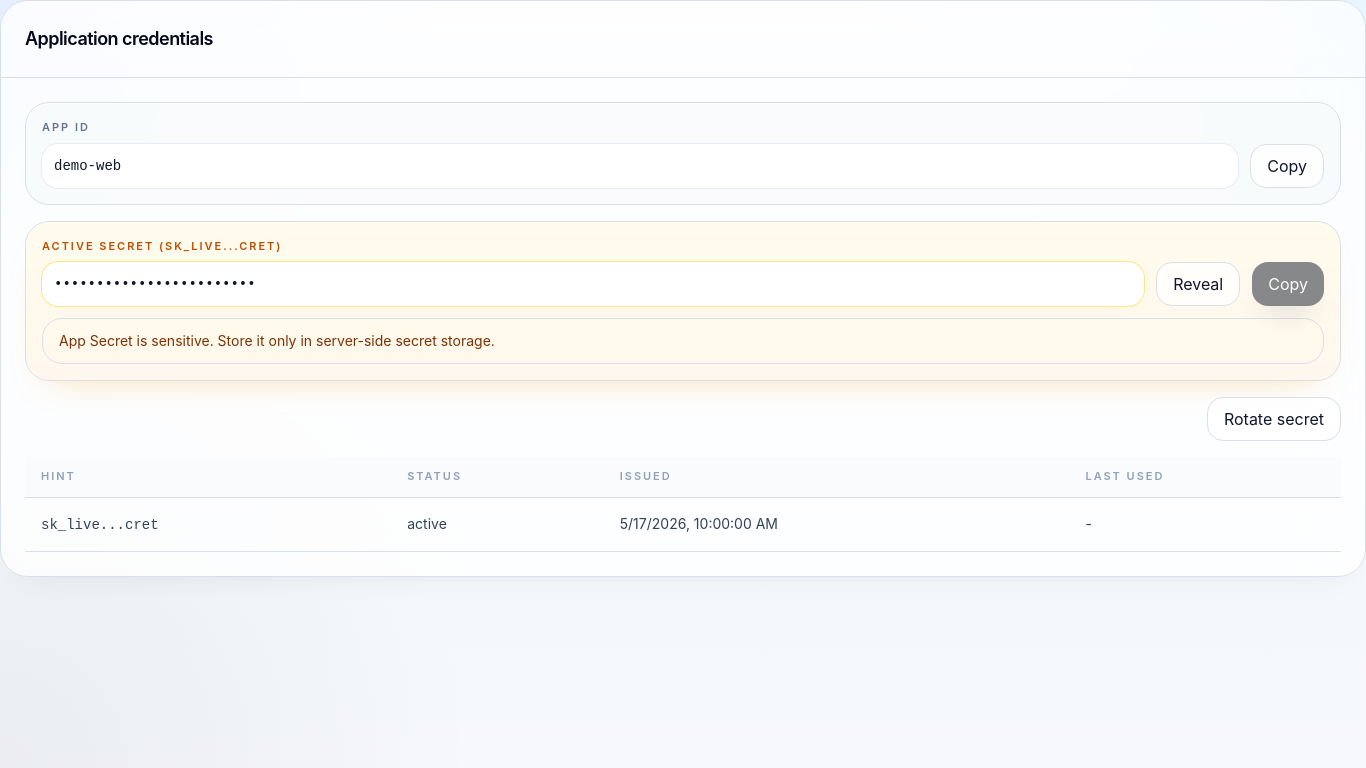
ApplicationSecretSection › shows the rotated secret once instead of duplicating it as active secret
Click the button "Rotate secret" at (1274, 419), box [1207, 397, 1341, 441]
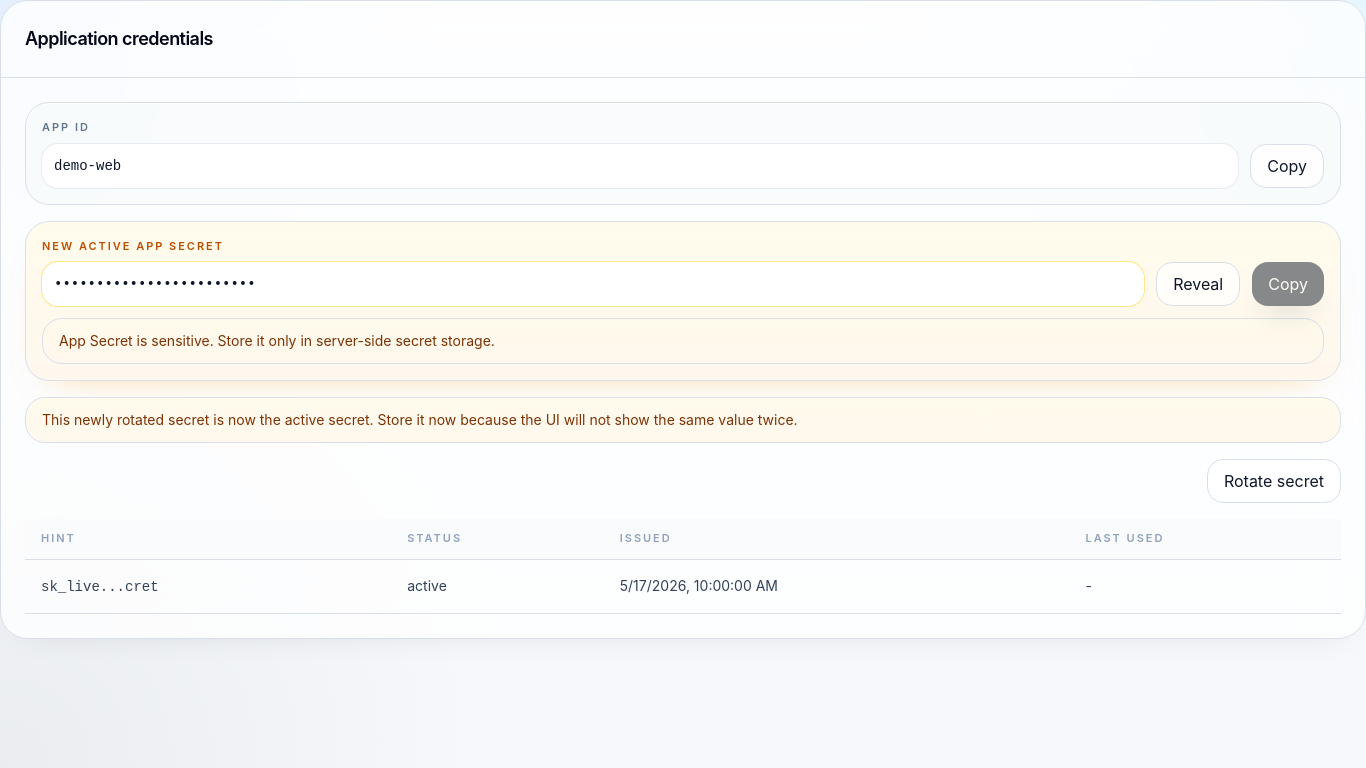
Expected: the text "New Active App Secret" is shown, [42, 238, 224, 252]
Expected: the text "Active secret (sk_live...cret)" is gone
Expected: the text "This newly rotated secret is now the active secret. Store it now because the UI will not show the same value twice." is shown, [42, 411, 798, 428]
